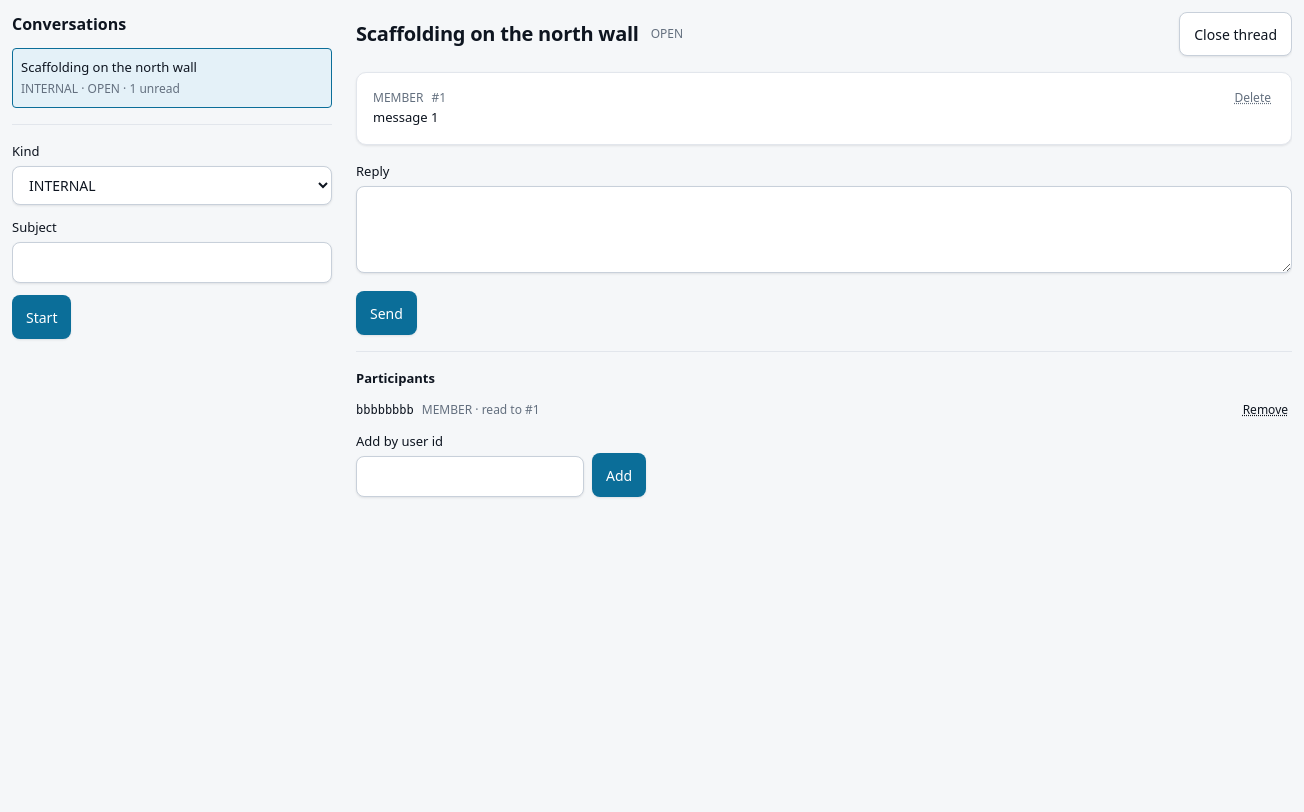
Test case: posting a message › shows it at once, then replaces the placeholder with the server’s message
The width and height of the screenshot is (1304, 812).
Type "on my way" into the text box labelled "Reply" at (824, 230), box x1=356 y1=186 x2=1292 y2=273
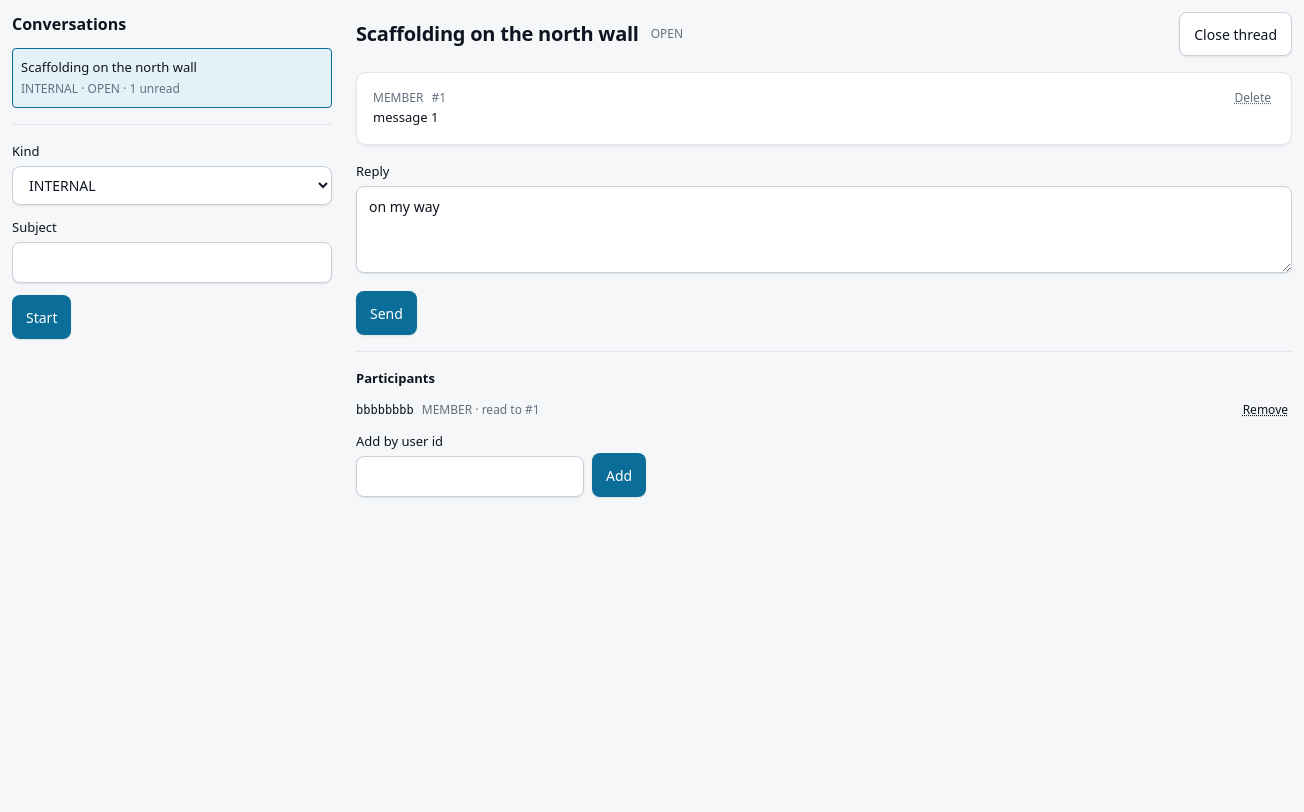
Click the button "Send" at (386, 313), box x1=356 y1=291 x2=417 y2=335
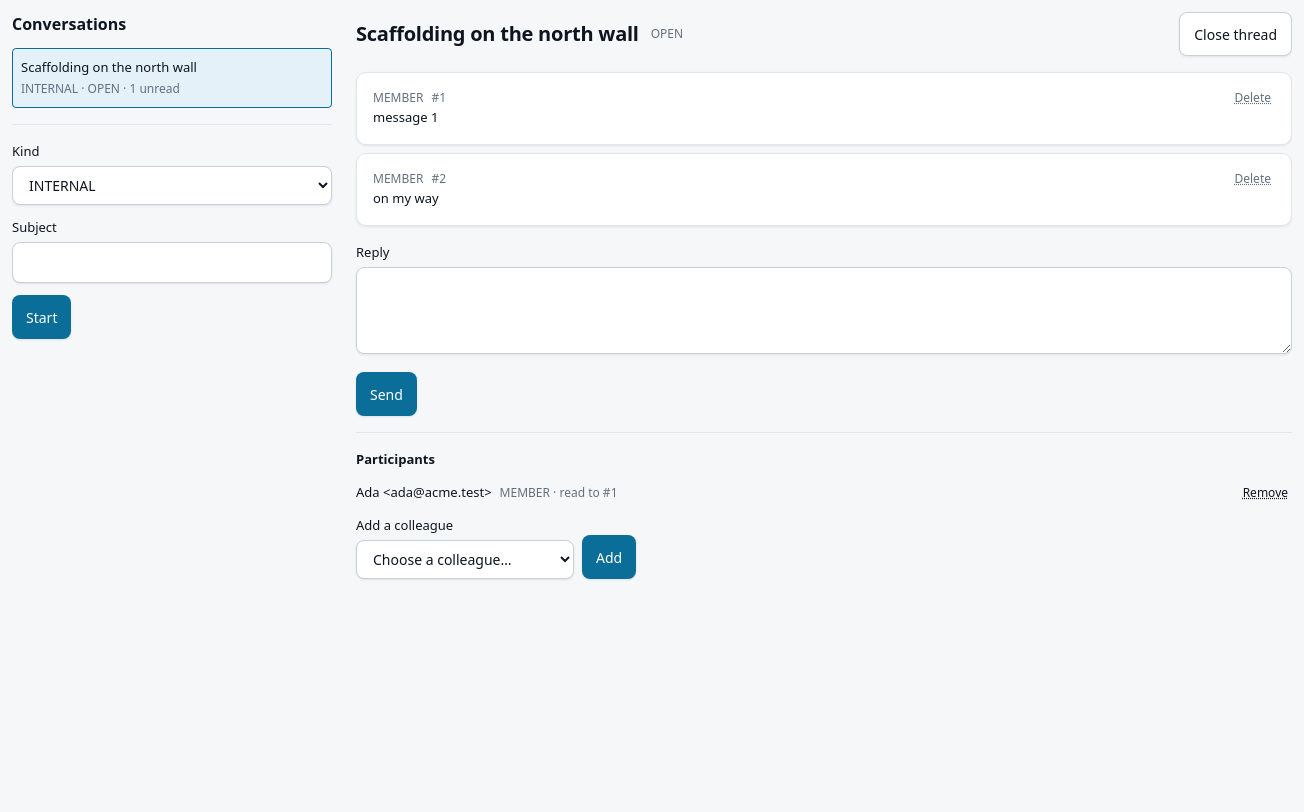
Check: the text "on my way" is shown, box x1=373 y1=189 x2=439 y2=207
